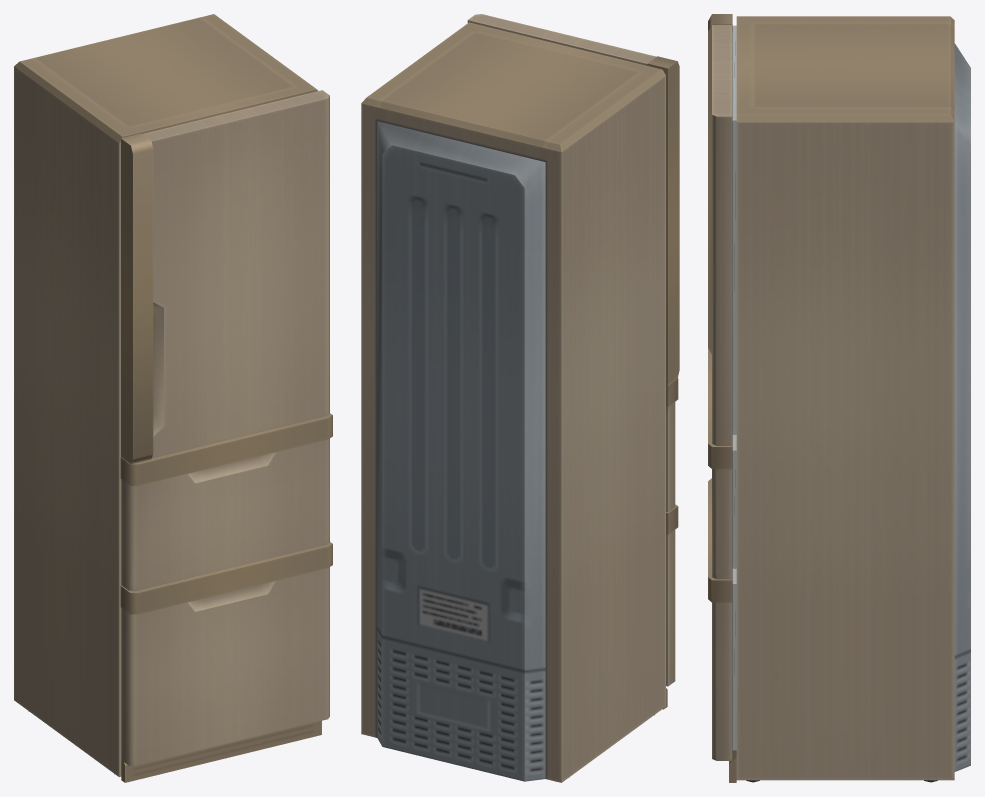
Rendered from KR_Refrigerator_01_01.fbx.
3 views of the same model, side by side, from view 1: azimuth 30°, elevation 25°; view 2: azimuth 150°, elevation 25°; view 3: azimuth 270°, elevation 25° (orthographic). The views are drawn at different scales.
Parts seen in each view (by area): view 1: refrigerator_main, refrigerator_door_a, refrigerator_door_c01, refrigerator_door_b01; view 2: refrigerator_main, refrigerator_door_a, refrigerator_door_c01, refrigerator_door_b01; view 3: refrigerator_main, refrigerator_door_a, refrigerator_door_c01, refrigerator_door_b01.
Part boxes in pixels (left/top/right/bottom): refrigerator_main: left=14, top=14, right=321, bottom=782; refrigerator_door_a: left=121, top=90, right=329, bottom=464; refrigerator_door_c01: left=120, top=542, right=332, bottom=766; refrigerator_door_b01: left=120, top=413, right=332, bottom=591; refrigerator_main: left=361, top=22, right=667, bottom=782; refrigerator_door_a: left=467, top=14, right=679, bottom=385; refrigerator_door_c01: left=666, top=504, right=678, bottom=686; refrigerator_door_b01: left=666, top=378, right=678, bottom=512; refrigerator_main: left=729, top=16, right=970, bottom=782; refrigerator_door_a: left=708, top=14, right=736, bottom=445; refrigerator_door_c01: left=708, top=478, right=736, bottom=760; refrigerator_door_b01: left=708, top=348, right=736, bottom=579.
Size of the model in its own units: 59.24 by 180 by 64.27.
